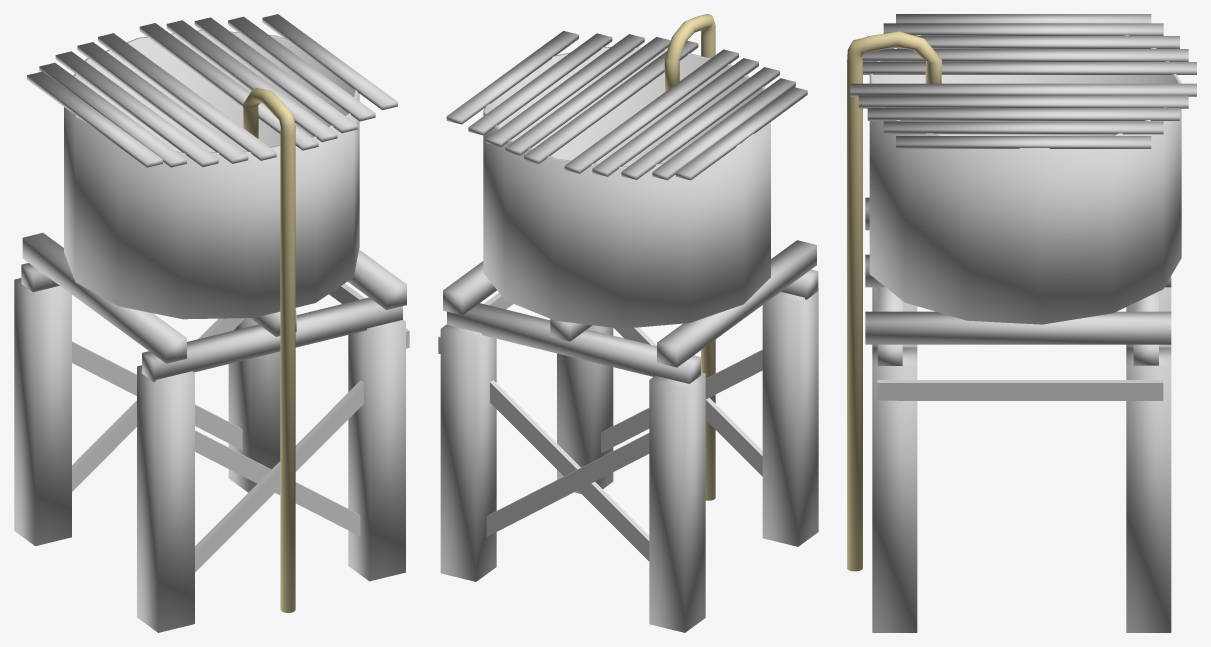
Rendered from waterTower.fbx.
3 renders of one model, left to right at view 1: azimuth 30°, elevation 25°; view 2: azimuth 150°, elevation 25°; view 3: azimuth 270°, elevation 25°, orthographic. The views are drawn at different scales.
Visible parts, largest first — view 1: Cylinder, Cube.003, Cube.020, Cube.005, Cube.015, Cylinder.001; view 2: Cylinder, Cube.003, Cube.020, Cube.005, Cube.015, Cylinder.001; view 3: Cylinder, Cube.020, Cube.003, Cube.005, Cylinder.001, Cube.015.
Part boxes in pixels (left/top/right/bottom): Cylinder: left=64, top=30, right=359, bottom=319; Cube.003: left=14, top=278, right=405, bottom=632; Cube.020: left=27, top=14, right=397, bottom=167; Cube.005: left=21, top=233, right=406, bottom=382; Cube.015: left=72, top=283, right=409, bottom=572; Cylinder.001: left=243, top=88, right=295, bottom=612; Cylinder: left=483, top=47, right=770, bottom=328; Cube.003: left=440, top=287, right=818, bottom=632; Cube.020: left=446, top=31, right=807, bottom=180; Cube.005: left=443, top=240, right=818, bottom=383; Cube.015: left=438, top=293, right=762, bottom=561; Cylinder.001: left=664, top=14, right=715, bottom=500; Cylinder: left=869, top=35, right=1181, bottom=324; Cube.020: left=850, top=14, right=1196, bottom=148; Cube.003: left=872, top=287, right=1171, bottom=632; Cube.005: left=865, top=197, right=1171, bottom=365; Cylinder.001: left=847, top=31, right=941, bottom=571; Cube.015: left=877, top=380, right=1163, bottom=400.
Size of the model in its own units: 3.39 by 6.36 by 3.76.
